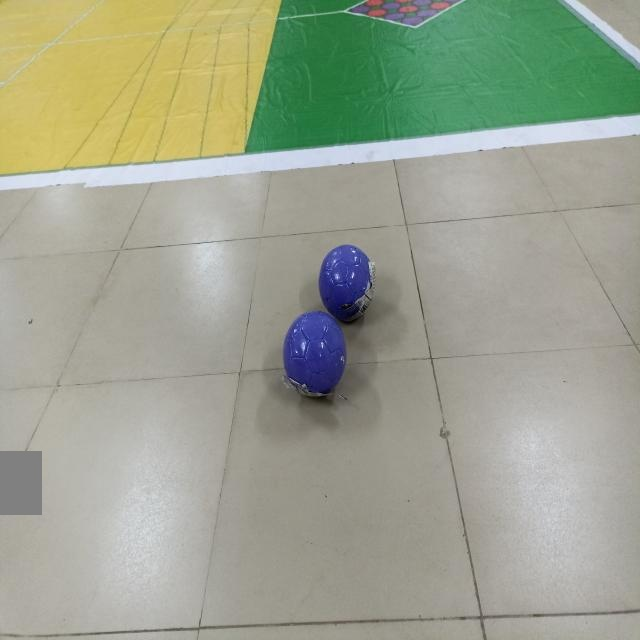purple_ball: (282, 314, 350, 408), (318, 242, 381, 315)
